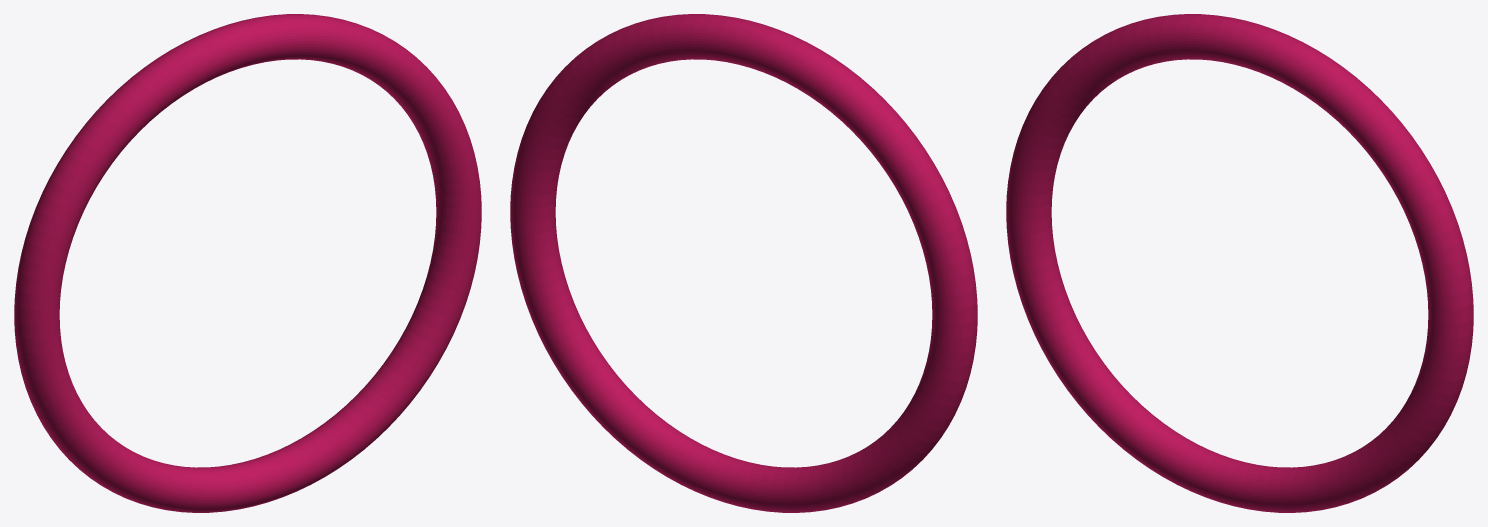
The picture shows the model from 3 angles, left to right: view 1: azimuth 30°, elevation 25°; view 2: azimuth 150°, elevation 25°; view 3: azimuth 330°, elevation 25°; orthographic projection.
Parts seen in each view (by area): view 1: world; view 2: world; view 3: world.
Part boxes in pixels (<box>): world: <box>14,14,481,512</box>; world: <box>510,14,977,512</box>; world: <box>1006,14,1473,512</box>.
Size of the model in its own units: 32.8 by 32.8 by 2.79.
